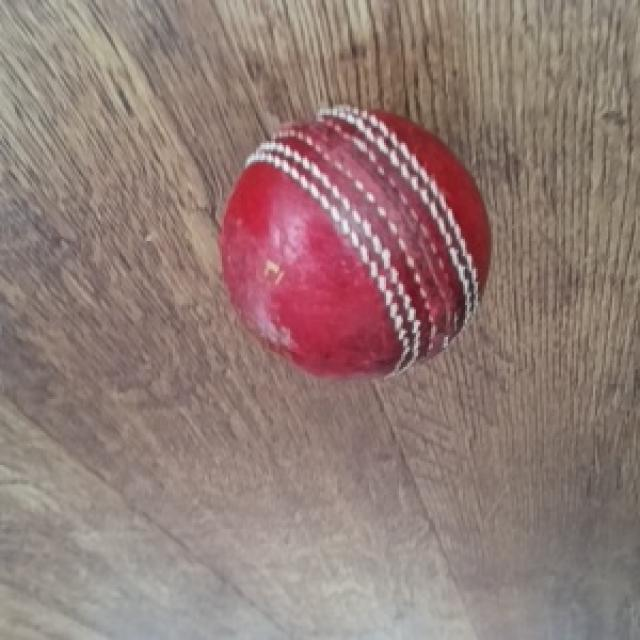ball: (218, 107, 493, 384)
